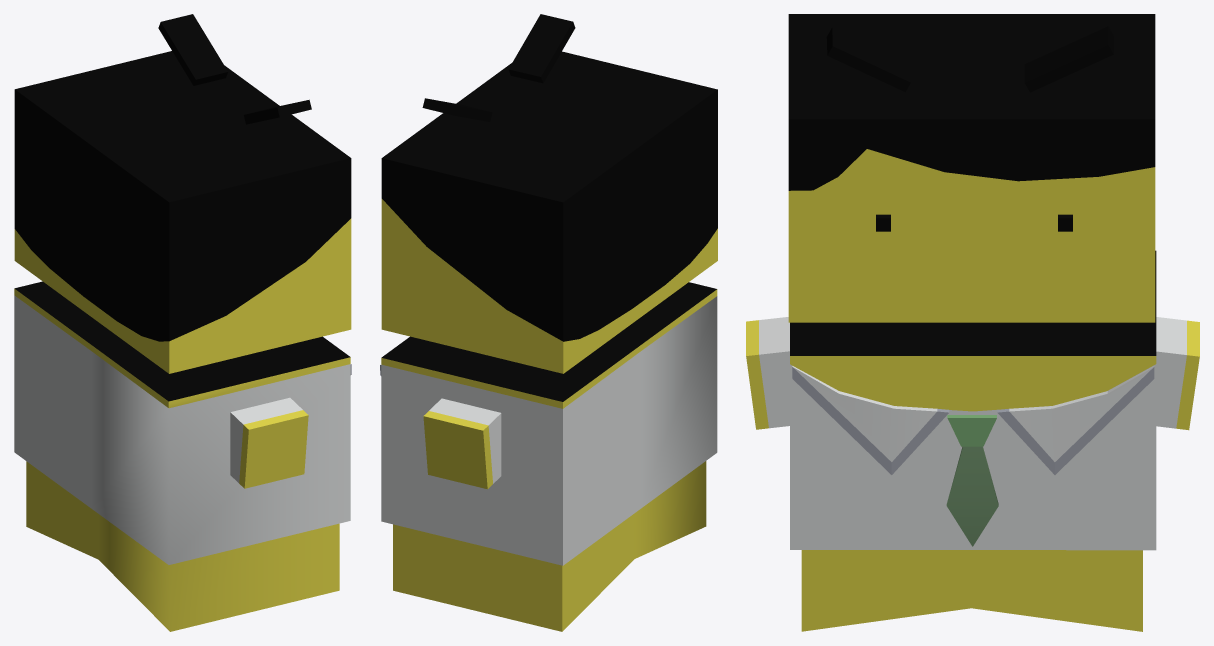
Rendered from SteveDad.fbx.
3 views of the same model, side by side, from view 1: azimuth 30°, elevation 25°; view 2: azimuth 150°, elevation 25°; view 3: azimuth 270°, elevation 25° (orthographic). The views are drawn at different scales.
Visible parts, largest first — view 1: Head, polySurface72, L_Leg1, L_Arm, R_leg1, R_Eyebrow, L_Eyebrow; view 2: Head, polySurface72, R_leg1, R_Arm, L_Leg1, L_Eyebrow, R_Eyebrow; view 3: Head, polySurface72, L_Leg1, R_leg1, polySurface64, polySurface63, L_Arm, R_Arm, polySurface70, R_Eyebrow, L_Eyebrow, polySurface71.
Boxes of the visible parts, bbox=[...] form: Head: bbox=[14, 51, 351, 373]; polySurface72: bbox=[14, 281, 350, 564]; L_Leg1: bbox=[98, 514, 339, 631]; L_Arm: bbox=[230, 397, 308, 488]; R_leg1: bbox=[26, 461, 98, 559]; R_Eyebrow: bbox=[158, 14, 227, 85]; L_Eyebrow: bbox=[244, 99, 311, 124]; Head: bbox=[381, 51, 717, 373]; polySurface72: bbox=[381, 282, 717, 565]; R_leg1: bbox=[393, 514, 634, 631]; R_Arm: bbox=[423, 398, 501, 489]; L_Leg1: bbox=[634, 461, 706, 558]; L_Eyebrow: bbox=[508, 14, 575, 83]; R_Eyebrow: bbox=[422, 98, 492, 121]; Head: bbox=[788, 14, 1155, 322]; polySurface72: bbox=[790, 250, 1156, 550]; L_Leg1: bbox=[801, 550, 972, 631]; R_leg1: bbox=[972, 550, 1142, 631]; polySurface64: bbox=[792, 366, 949, 474]; polySurface63: bbox=[997, 366, 1154, 474]; L_Arm: bbox=[746, 317, 789, 429]; R_Arm: bbox=[1156, 317, 1199, 430]; polySurface70: bbox=[946, 446, 998, 546]; R_Eyebrow: bbox=[1024, 26, 1113, 92]; L_Eyebrow: bbox=[826, 27, 910, 91]; polySurface71: bbox=[947, 415, 996, 446].
Size of the model in its own units: 0.7033 by 1.74 by 1.24.
